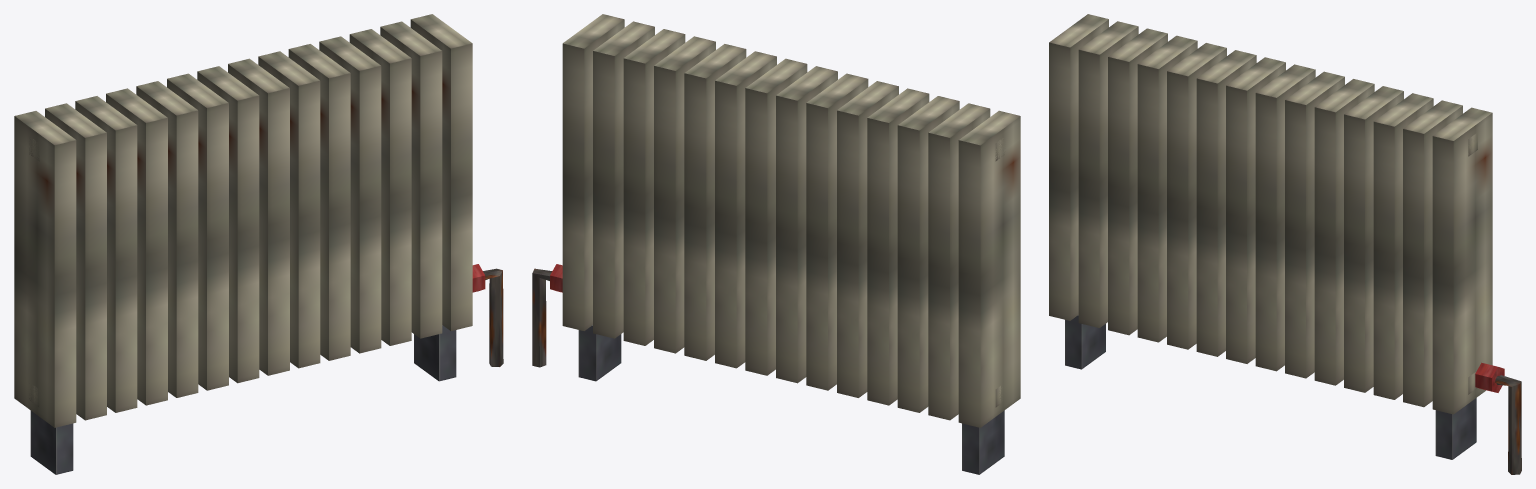
File: radiator.fbx
The picture shows the model from 3 angles, left to right: view 1: azimuth 30°, elevation 25°; view 2: azimuth 150°, elevation 25°; view 3: azimuth 330°, elevation 25°; orthographic projection. The views are drawn at different scales.
Parts seen in each view (by area): view 1: radiator; view 2: radiator; view 3: radiator.
Boxes of the visible parts, <box> form: radiator: <box>14,14,503,474</box>; radiator: <box>532,14,1020,474</box>; radiator: <box>1049,14,1521,474</box>.
Size of the model in its own units: 1.07 by 0.76 by 0.16.
1 material, 1 textured.
